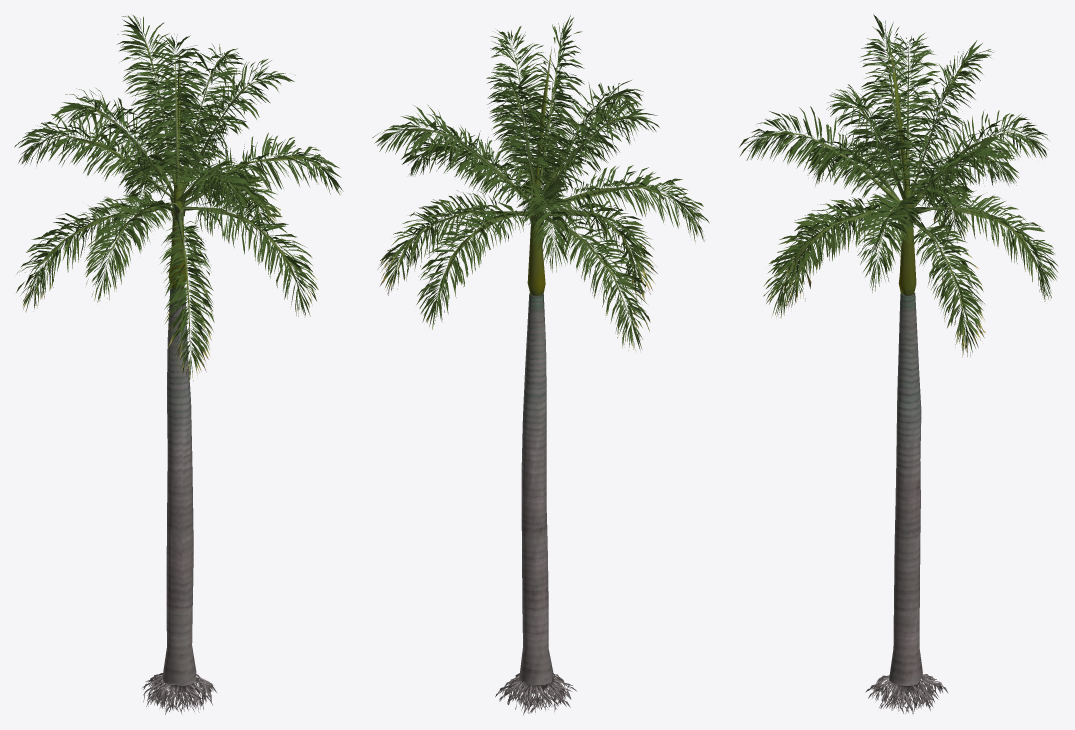
Rendered from royal_palm.glb.
3 views of the same model, side by side, from view 1: azimuth 30°, elevation 25°; view 2: azimuth 150°, elevation 25°; view 3: azimuth 270°, elevation 25° (orthographic).
Parts seen in each view (by area): view 1: Roystonea_regia_HD_w; view 2: Roystonea_regia_HD_w; view 3: Roystonea_regia_HD_w.
Part boxes in pixels (x1,y1,x2,y2): Roystonea_regia_HD_w: (14, 14, 343, 714); Roystonea_regia_HD_w: (372, 15, 709, 715); Roystonea_regia_HD_w: (739, 14, 1058, 713).
Size of the model in its own units: 7.3 by 16.97 by 7.25.
Materials: 8 (8 with a texture image).
